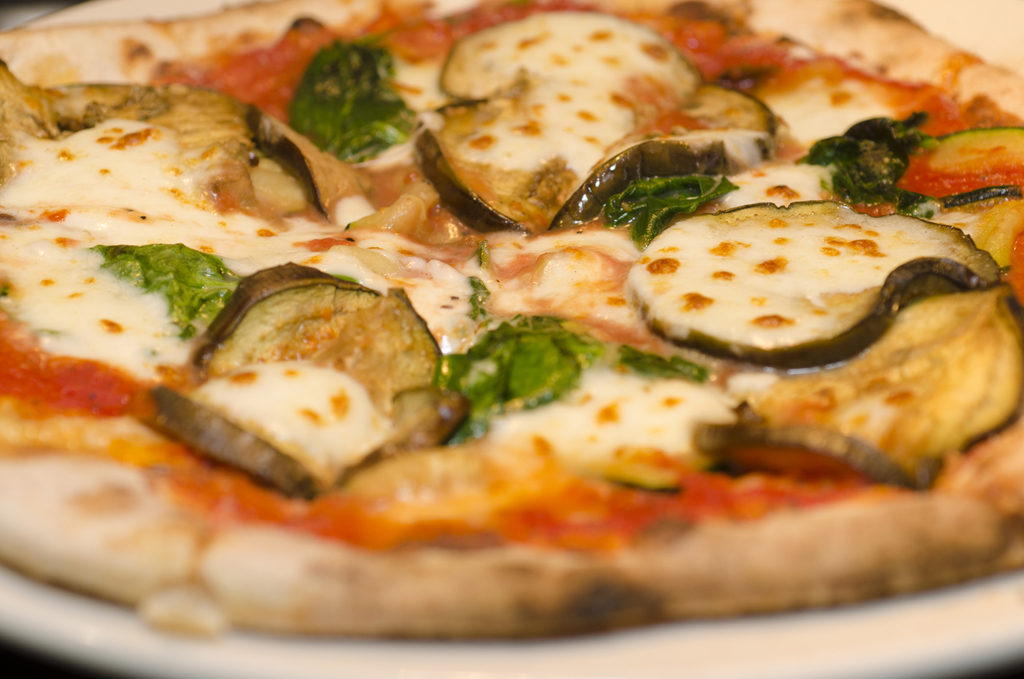Pizza: (0, 0, 1019, 627)
